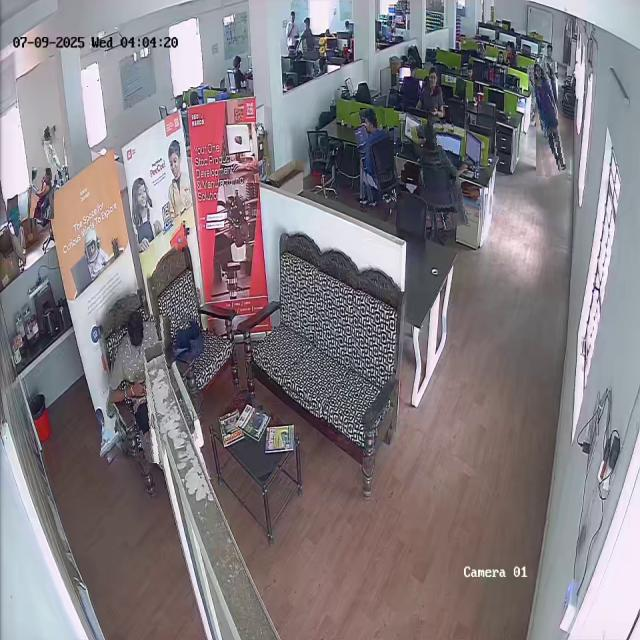person: (104, 312, 177, 462), (415, 121, 464, 230), (355, 107, 399, 209), (531, 62, 563, 176), (417, 66, 445, 120), (31, 167, 55, 220), (41, 126, 63, 180)
